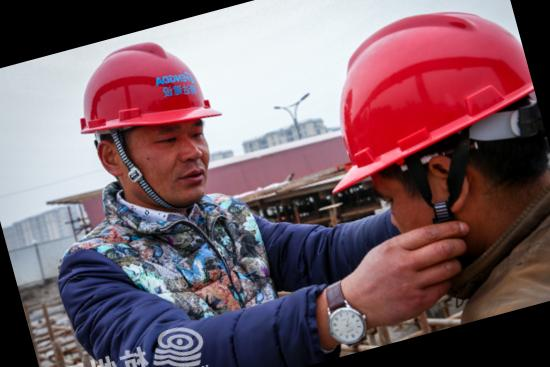helmet: (285, 0, 546, 207), (54, 23, 222, 158)
